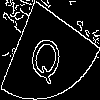Q: (25, 24, 69, 87)
